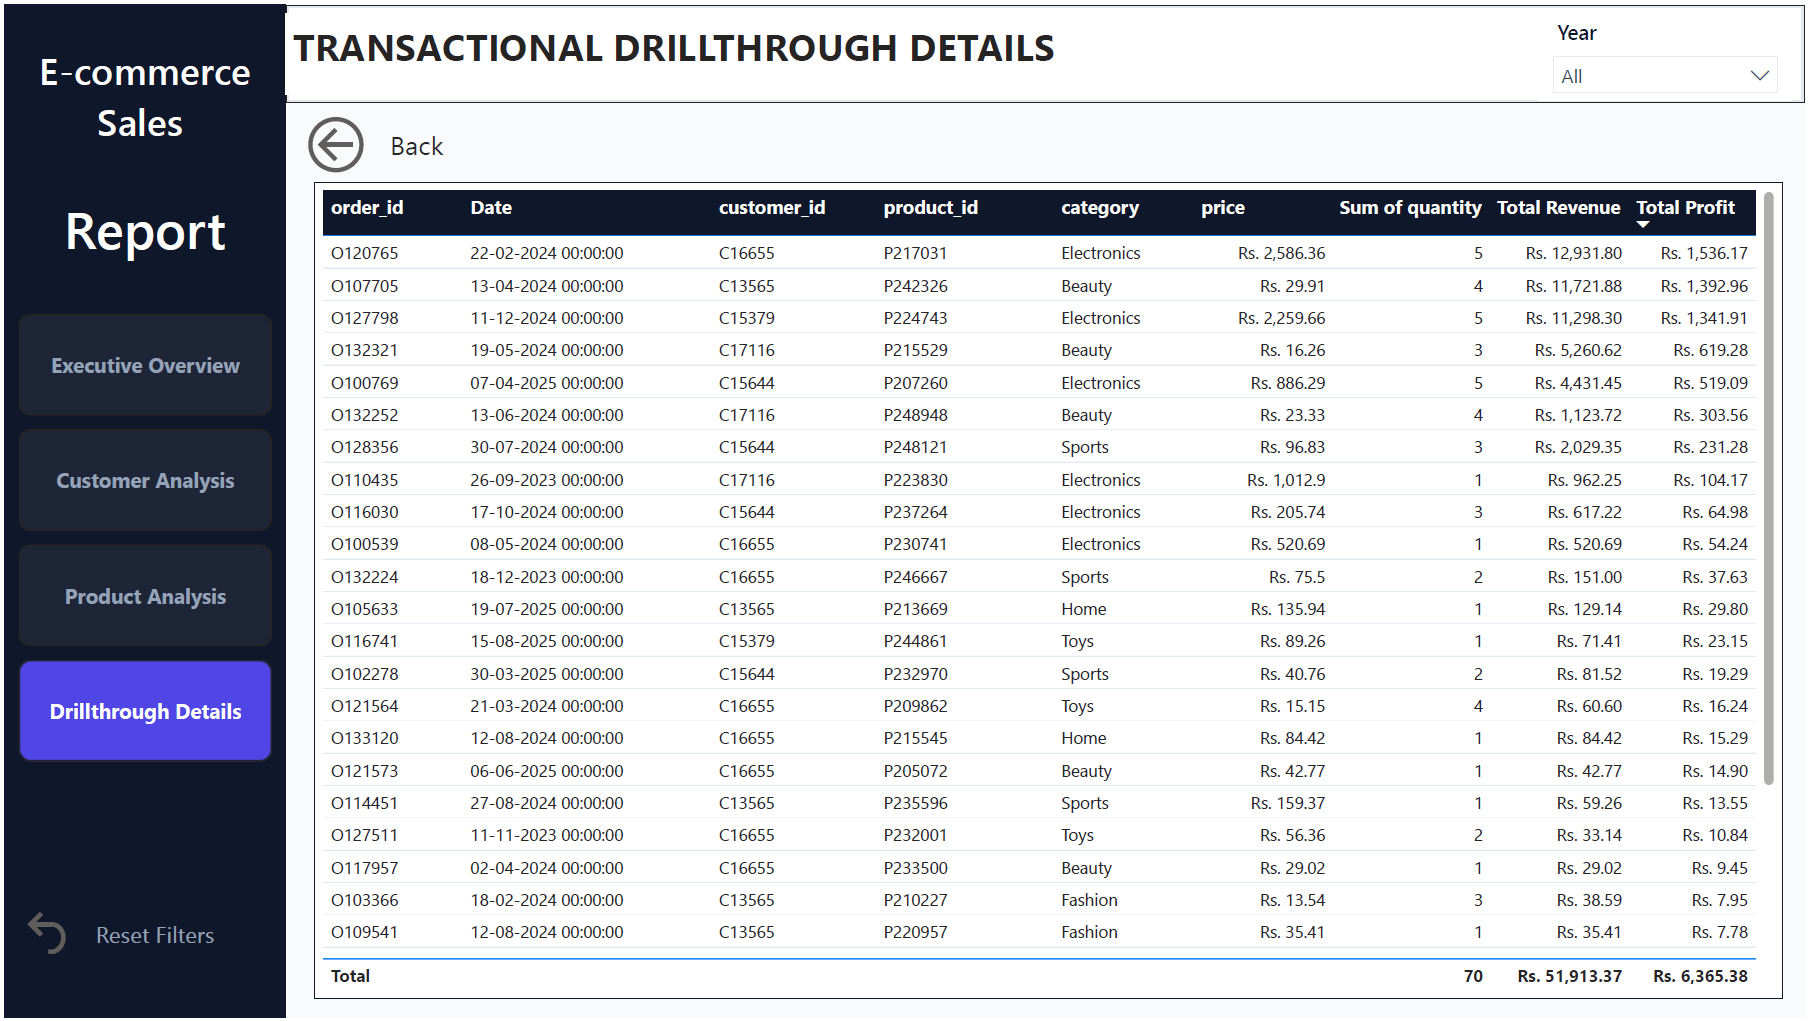

This screenshot's page, from the dashboard's own definition file:
{"tool":"powerbi","page":{"name":"Drillthrough Details","canvas":[1280,720],"ordinal":3},"visuals":[{"type":"shape","box":[0.3,0.4,200,720],"z":0},{"type":"pageNavigator","box":[10,220,180,320],"z":1000},{"type":"actionButton","box":[10.3,640.4,100,40],"z":2000},{"type":"textbox","box":[60.3,644.9,100.3,35.5],"z":3000},{"type":"shape","box":[200.3,0.4,1080,70],"z":4000},{"type":"textbox","box":[200.3,6,583.9,57.9],"z":5000},{"type":"slicer","fields":{"Values":["Dim_Calendar.Year"]},"box":[1091.1,4.1,180,63.8],"z":6000},{"type":"actionButton","box":[209.9,73.6,118.2,51.9],"z":7000},{"type":"textbox","box":[269,82,119.4,35],"z":8000},{"type":"tableEx","fields":{"Values":["Fact_Sales.order_id","Dim_Calendar.Date","Dim_Customer.customer_id","Fact_Sales.product_id","Dim_Product.category","Dim_Product.price","Sum(Fact_Sales.quantity)","_Measures.Total Revenue","_Measures.Total Profit"]},"box":[220.4,125.9,1044.4,581.5],"z":9000},{"type":"textbox","box":[9.8,6.1,179.8,192],"z":10000}]}

Visuals, with their boxes in screenshot pixels (x1, y1, x2, y2), scaled from the page's 1280x720 canvas onto the 1809x1021 screenshot:
shape: [left=0, top=1, right=283, bottom=1020]
pageNavigator: [left=14, top=312, right=269, bottom=766]
actionButton: [left=15, top=908, right=156, bottom=965]
textbox: [left=85, top=915, right=227, bottom=965]
shape: [left=283, top=1, right=1808, bottom=100]
textbox: [left=283, top=9, right=1108, bottom=91]
slicer - Dim_Calendar.Year: [left=1542, top=6, right=1796, bottom=96]
actionButton: [left=297, top=104, right=464, bottom=178]
textbox: [left=380, top=116, right=549, bottom=166]
tableEx - Fact_Sales.order_id x Dim_Calendar.Date: [left=311, top=179, right=1788, bottom=1003]
textbox: [left=14, top=9, right=268, bottom=281]
